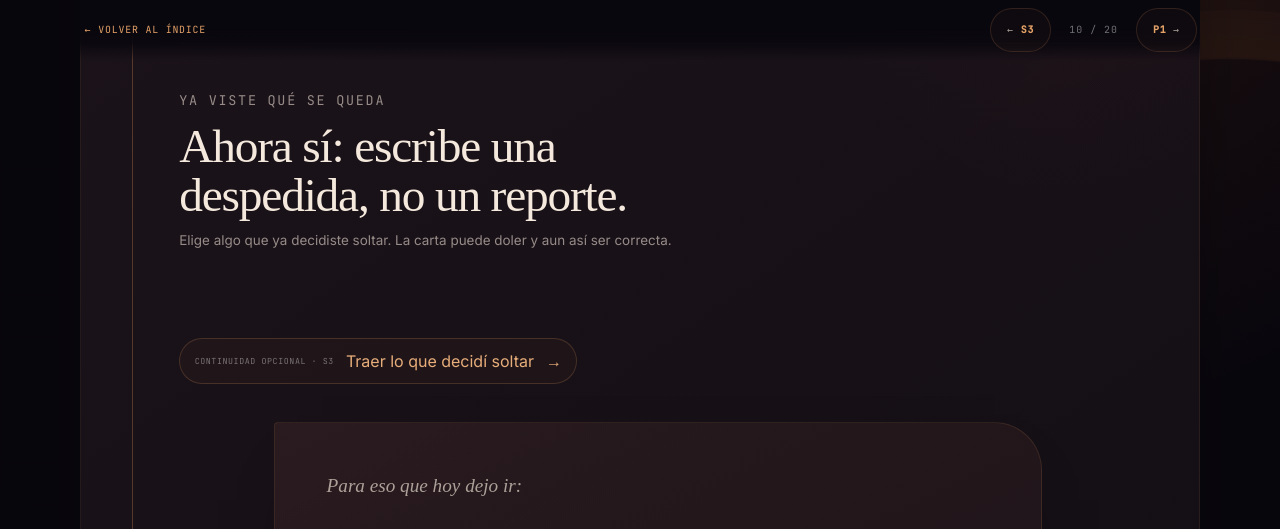
Test case: cuaderno de trabajo › S4 permite traer lo que la persona decidio soltar en S3
(page scrolled)
Expected: the text "Un compromiso que ya cumplió su función" is not shown
Click the button "Continuidad opcional · S3 Traer lo que decidí soltar →": (378, 361) top-left (179, 338), bottom-right (577, 384)
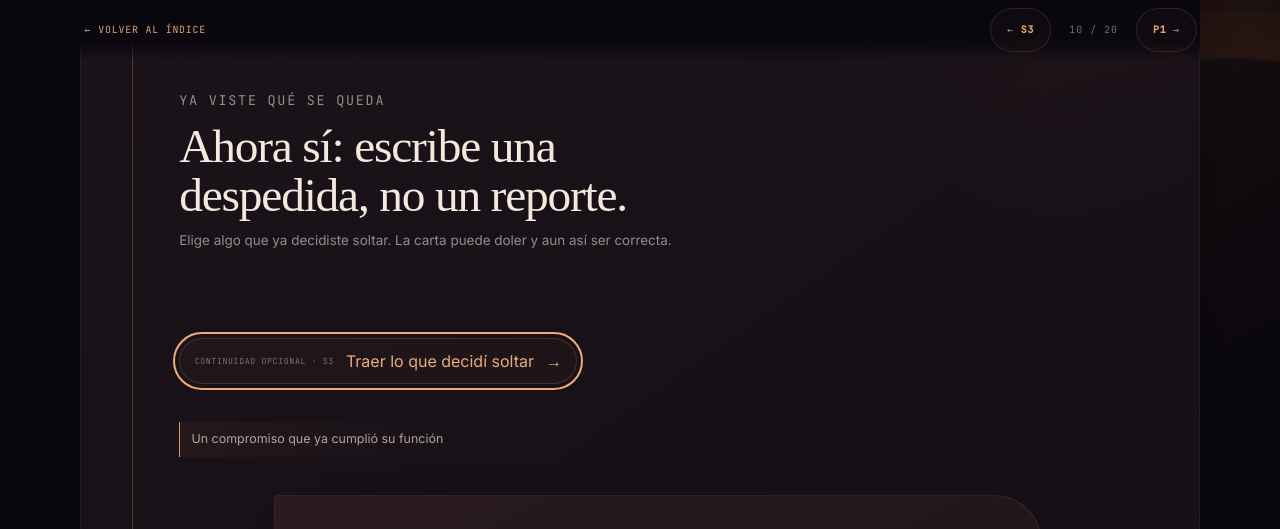
Result: the text "Un compromiso que ya cumplió su función" is shown at top-left (179, 422), bottom-right (454, 457)
